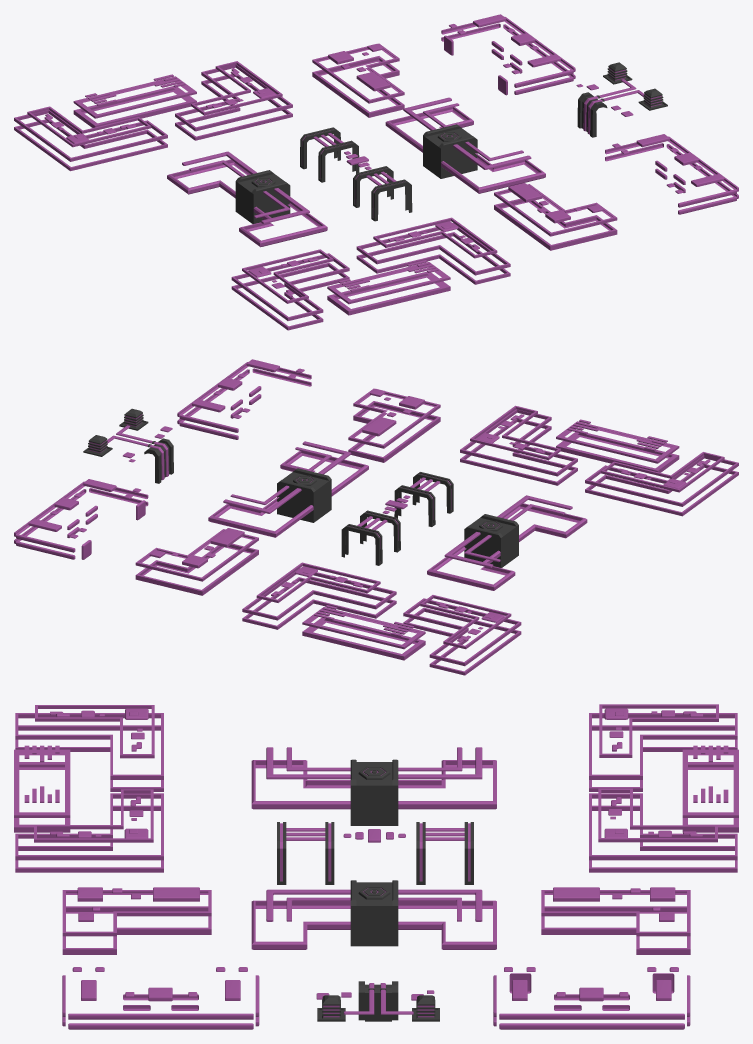
File: P1L2 Walls.fbx
The picture shows the model from 3 angles, top to bottom: view 1: azimuth 30°, elevation 25°; view 2: azimuth 150°, elevation 25°; view 3: azimuth 270°, elevation 25°; orthographic projection. The views are drawn at different scales.
Parts seen in each view (by area): view 1: Wall_Piece_4, Wall_Piece_3, polySurface70, polySurface78, Wall_Piece_10, Wall_Piece_7, Wall_Piece_8, polySurface75, Wall_Piece_6, Wall_Piece_9, Wall_Piece_5, polySurface91 (+1 smaller); view 2: Wall_Piece_3, Wall_Piece_4, polySurface70, polySurface78, Wall_Piece_10, Wall_Piece_8, polySurface75, Wall_Piece_7, Wall_Piece_5, Wall_Piece_9, Wall_Piece_6, polySurface91 (+1 smaller); view 3: Wall_Piece_3, Wall_Piece_4, polySurface78, polySurface70, Wall_Piece_10, Wall_Piece_9, Wall_Piece_8, Wall_Piece_7, polySurface75, Wall_Piece_5, Wall_Piece_6, polySurface91 (+2 smaller).
Boxes of the visible parts, box(x1,y1,x2,y2) form: Wall_Piece_4: box(231, 217, 510, 330); Wall_Piece_3: box(14, 61, 292, 171); polySurface70: box(385, 97, 545, 193); polySurface78: box(167, 151, 327, 247); Wall_Piece_10: box(441, 14, 575, 95); Wall_Piece_7: box(494, 183, 617, 250); Wall_Piece_8: box(312, 43, 404, 117); polySurface75: box(300, 127, 412, 221); Wall_Piece_6: box(327, 260, 450, 315); Wall_Piece_9: box(605, 134, 738, 214); Wall_Piece_5: box(73, 74, 196, 127); polySurface91: box(577, 62, 667, 137); Wall_Piece_3: box(242, 562, 521, 675); Wall_Piece_4: box(460, 405, 738, 516); polySurface70: box(208, 441, 368, 537); polySurface78: box(427, 495, 587, 590); Wall_Piece_10: box(14, 479, 148, 559); Wall_Piece_8: box(135, 528, 258, 595); polySurface75: box(341, 472, 453, 565); Wall_Piece_7: box(348, 388, 440, 462); Wall_Piece_5: box(302, 605, 425, 660); Wall_Piece_9: box(177, 359, 311, 439); Wall_Piece_6: box(556, 419, 679, 472); polySurface91: box(83, 408, 173, 483); Wall_Piece_3: box(589, 704, 737, 872); Wall_Piece_4: box(15, 705, 163, 872); polySurface78: box(251, 747, 496, 825); polySurface70: box(251, 880, 496, 949); Wall_Piece_10: box(493, 967, 690, 1029); Wall_Piece_9: box(62, 967, 259, 1029); Wall_Piece_8: box(541, 887, 690, 954); Wall_Piece_7: box(62, 887, 211, 954); polySurface75: box(277, 822, 473, 884); Wall_Piece_5: box(682, 745, 738, 832); Wall_Piece_6: box(14, 745, 70, 832); polySurface91: box(317, 981, 439, 1021).
Size of the model in its own units: 47.59 by 4.05 by 45.82.
